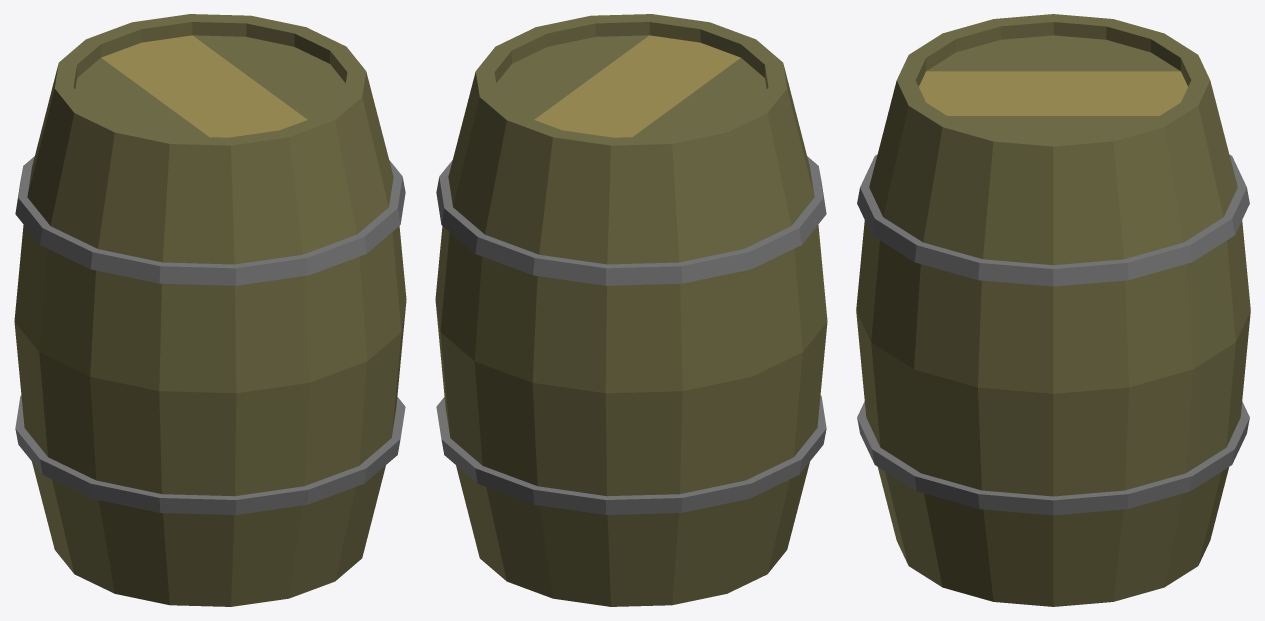
File: Wine_Barrle_StandUp.fbx
3 renders of one model, left to right at view 1: azimuth 30°, elevation 25°; view 2: azimuth 150°, elevation 25°; view 3: azimuth 270°, elevation 25°, orthographic.
Visible parts, largest first — view 1: Cylinder.001; view 2: Cylinder.001; view 3: Cylinder.001.
Boxes of the visible parts, bbox=[...] form: Cylinder.001: bbox=[14, 14, 406, 606]; Cylinder.001: bbox=[435, 14, 827, 606]; Cylinder.001: bbox=[856, 14, 1250, 606].
Size of the model in its own units: 62.93 by 81 by 62.93.
